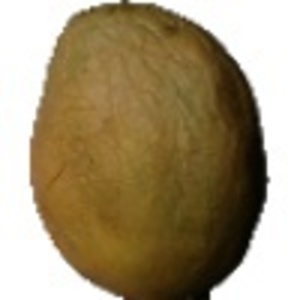mamão: (20, 3, 277, 293)
